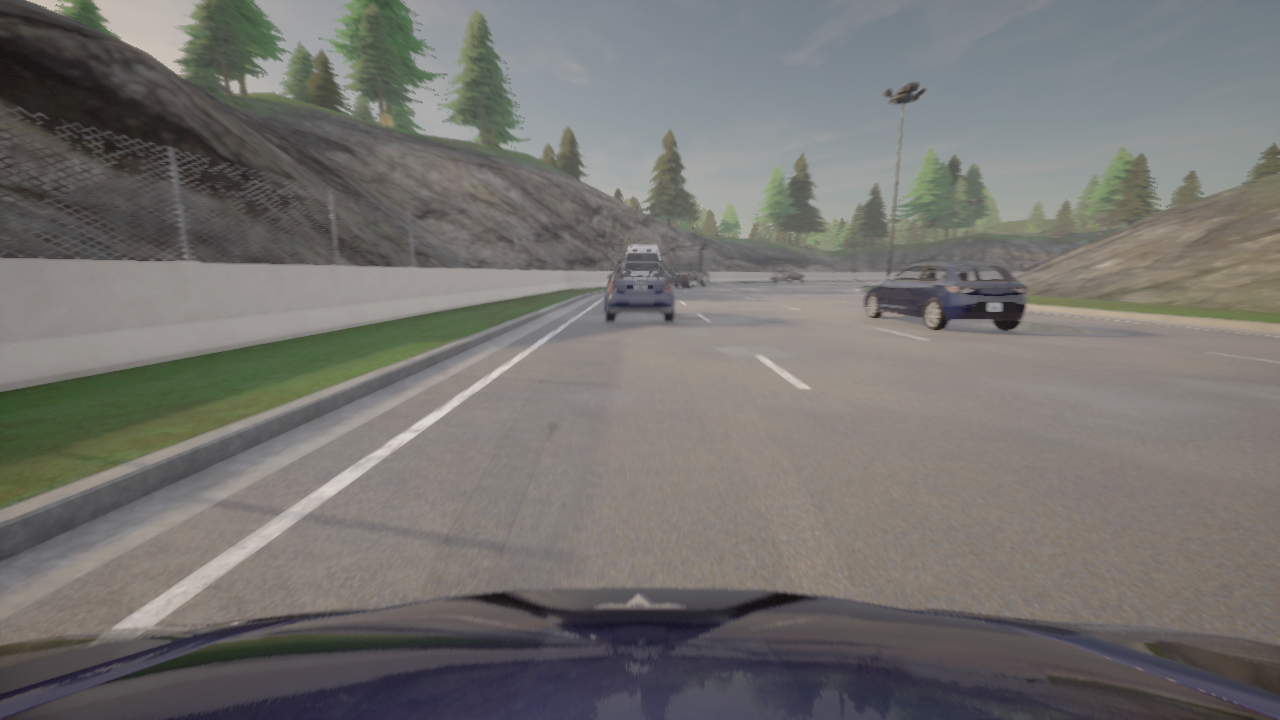cyclist: (0, 588, 1279, 719), (863, 261, 1027, 330), (605, 260, 674, 322), (666, 246, 712, 288), (625, 246, 666, 270), (771, 267, 805, 284)
